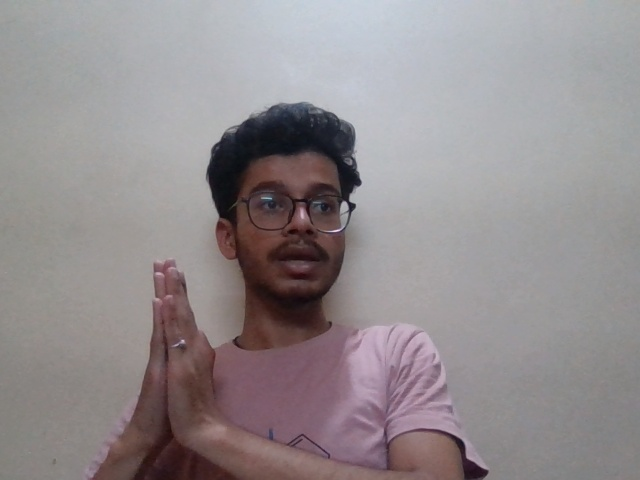please: (116, 250, 236, 452)
